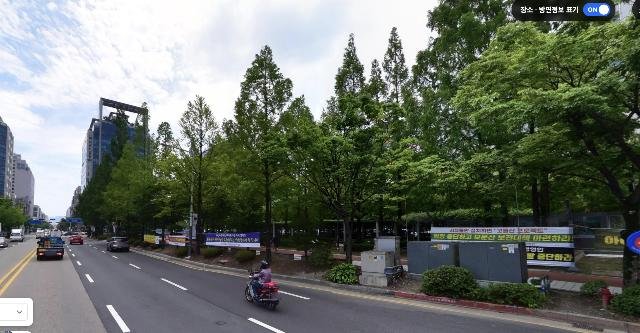other: (407, 0, 640, 289), (279, 102, 434, 264), (231, 45, 312, 261), (162, 96, 234, 257), (78, 122, 165, 246), (329, 32, 371, 236), (380, 26, 412, 224)
